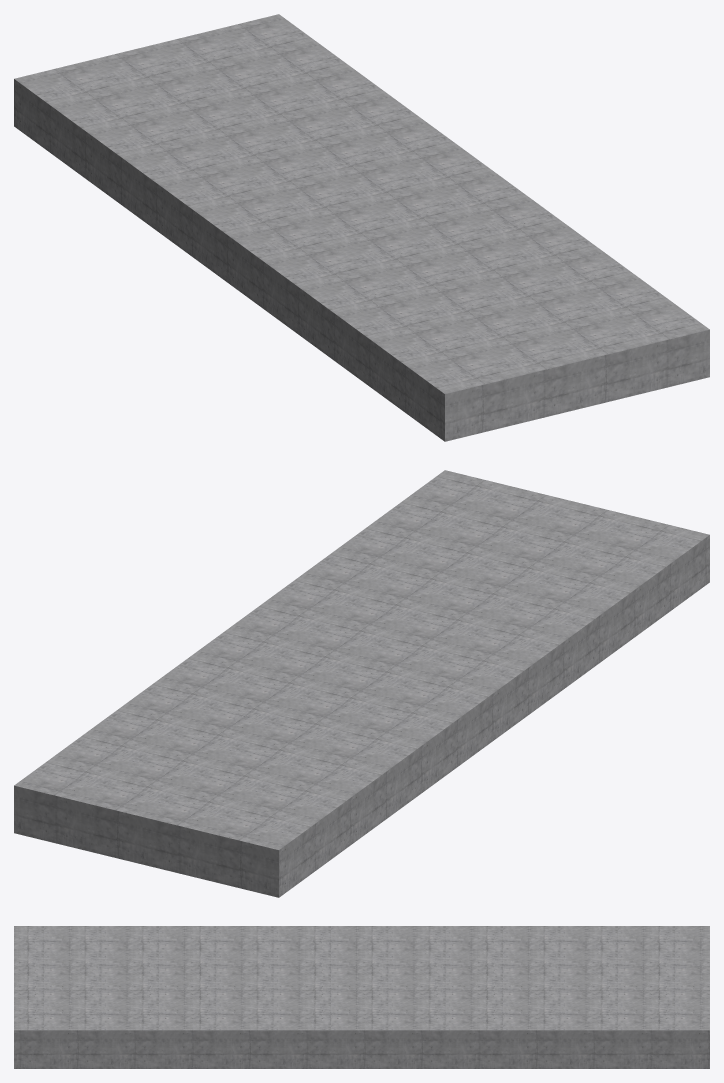
Rendered from AMB_RAIL_UNDER.glb.
3 renders of one model, top to bottom at view 1: azimuth 30°, elevation 25°; view 2: azimuth 150°, elevation 25°; view 3: azimuth 270°, elevation 25°, orthographic. The views are drawn at different scales.
Visible parts, largest first — view 1: BASE; view 2: BASE; view 3: BASE.
Boxes of the visible parts, x1,y1,x2,y2 form: BASE: [14, 14, 709, 441]; BASE: [14, 470, 709, 897]; BASE: [14, 926, 709, 1068].
Size of the model in its own units: 35.5 by 6.09 by 100.
1 material, 1 textured.
